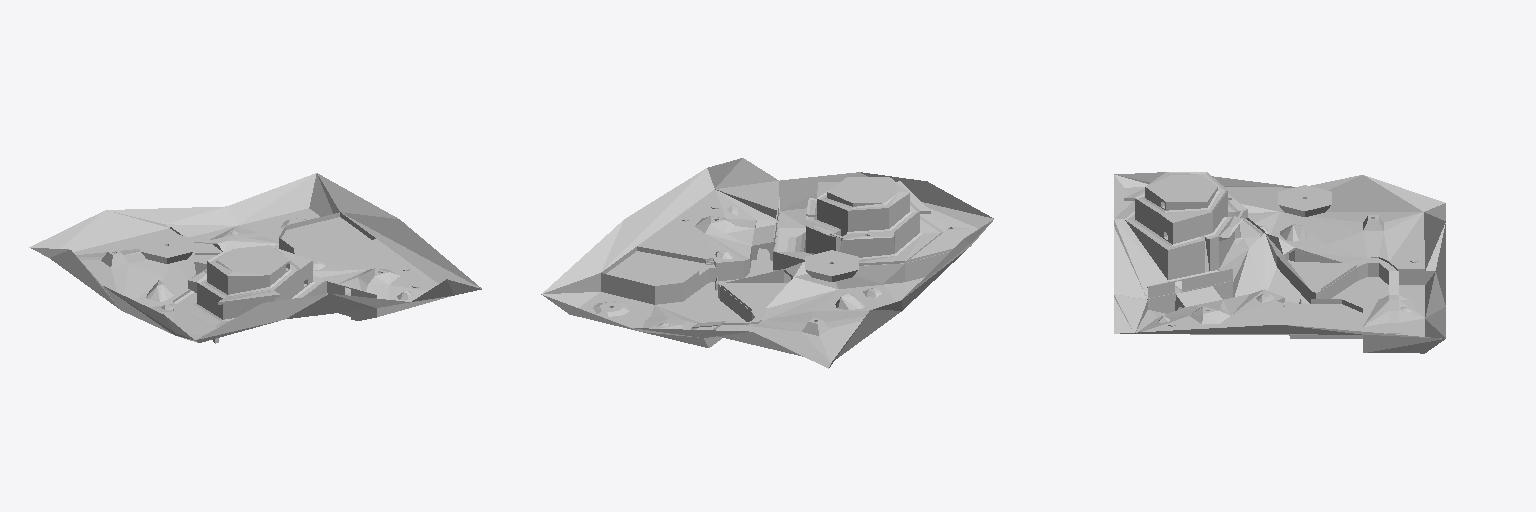
File: Bob-omb Battlefield.obj
3 renders of one model, left to right at view 1: azimuth 30°, elevation 25°; view 2: azimuth 150°, elevation 25°; view 3: azimuth 270°, elevation 25°, orthographic.
Parts seen in each view (by area): view 1: Shape_IndexedFaceSet.009, Shape_IndexedFaceSet.022, Shape_IndexedFaceSet.024, Shape_IndexedFaceSet.025, Shape_IndexedFaceSet.014, Shape_IndexedFaceSet.027; view 2: Shape_IndexedFaceSet.009, Shape_IndexedFaceSet.022, Shape_IndexedFaceSet.024, Shape_IndexedFaceSet.016, Shape_IndexedFaceSet.025, Shape_IndexedFaceSet.014, Shape_IndexedFaceSet.065, Shape_IndexedFaceSet.027, Shape_IndexedFaceSet.010, Shape_IndexedFaceSet.015; view 3: Shape_IndexedFaceSet.009, Shape_IndexedFaceSet.022, Shape_IndexedFaceSet.016, Shape_IndexedFaceSet.024, Shape_IndexedFaceSet.025, Shape_IndexedFaceSet.014, Shape_IndexedFaceSet.064, Shape_IndexedFaceSet.010, Shape_IndexedFaceSet.015.
Boxes of the visible parts, <box> form: Shape_IndexedFaceSet.009: <box>29,173,481,342</box>; Shape_IndexedFaceSet.022: <box>141,212,450,320</box>; Shape_IndexedFaceSet.024: <box>189,245,312,301</box>; Shape_IndexedFaceSet.025: <box>174,247,326,328</box>; Shape_IndexedFaceSet.014: <box>146,231,413,309</box>; Shape_IndexedFaceSet.027: <box>177,292,230,327</box>; Shape_IndexedFaceSet.009: <box>541,158,993,368</box>; Shape_IndexedFaceSet.022: <box>601,189,930,347</box>; Shape_IndexedFaceSet.024: <box>798,177,929,254</box>; Shape_IndexedFaceSet.016: <box>726,225,837,307</box>; Shape_IndexedFaceSet.025: <box>777,191,942,259</box>; Shape_IndexedFaceSet.014: <box>657,206,881,326</box>; Shape_IndexedFaceSet.065: <box>601,248,953,329</box>; Shape_IndexedFaceSet.027: <box>859,219,939,262</box>; Shape_IndexedFaceSet.010: <box>625,264,763,326</box>; Shape_IndexedFaceSet.015: <box>752,225,774,260</box>; Shape_IndexedFaceSet.009: <box>1114,172,1445,353</box>; Shape_IndexedFaceSet.022: <box>1124,179,1434,338</box>; Shape_IndexedFaceSet.016: <box>1229,225,1341,303</box>; Shape_IndexedFaceSet.024: <box>1126,173,1246,268</box>; Shape_IndexedFaceSet.025: <box>1125,172,1263,281</box>; Shape_IndexedFaceSet.014: <box>1158,224,1410,324</box>; Shape_IndexedFaceSet.064: <box>1148,270,1232,298</box>; Shape_IndexedFaceSet.010: <box>1282,258,1398,332</box>; Shape_IndexedFaceSet.015: <box>1175,286,1222,310</box>.
Size of the model in its own units: 16.39 by 4.7 by 16.38.